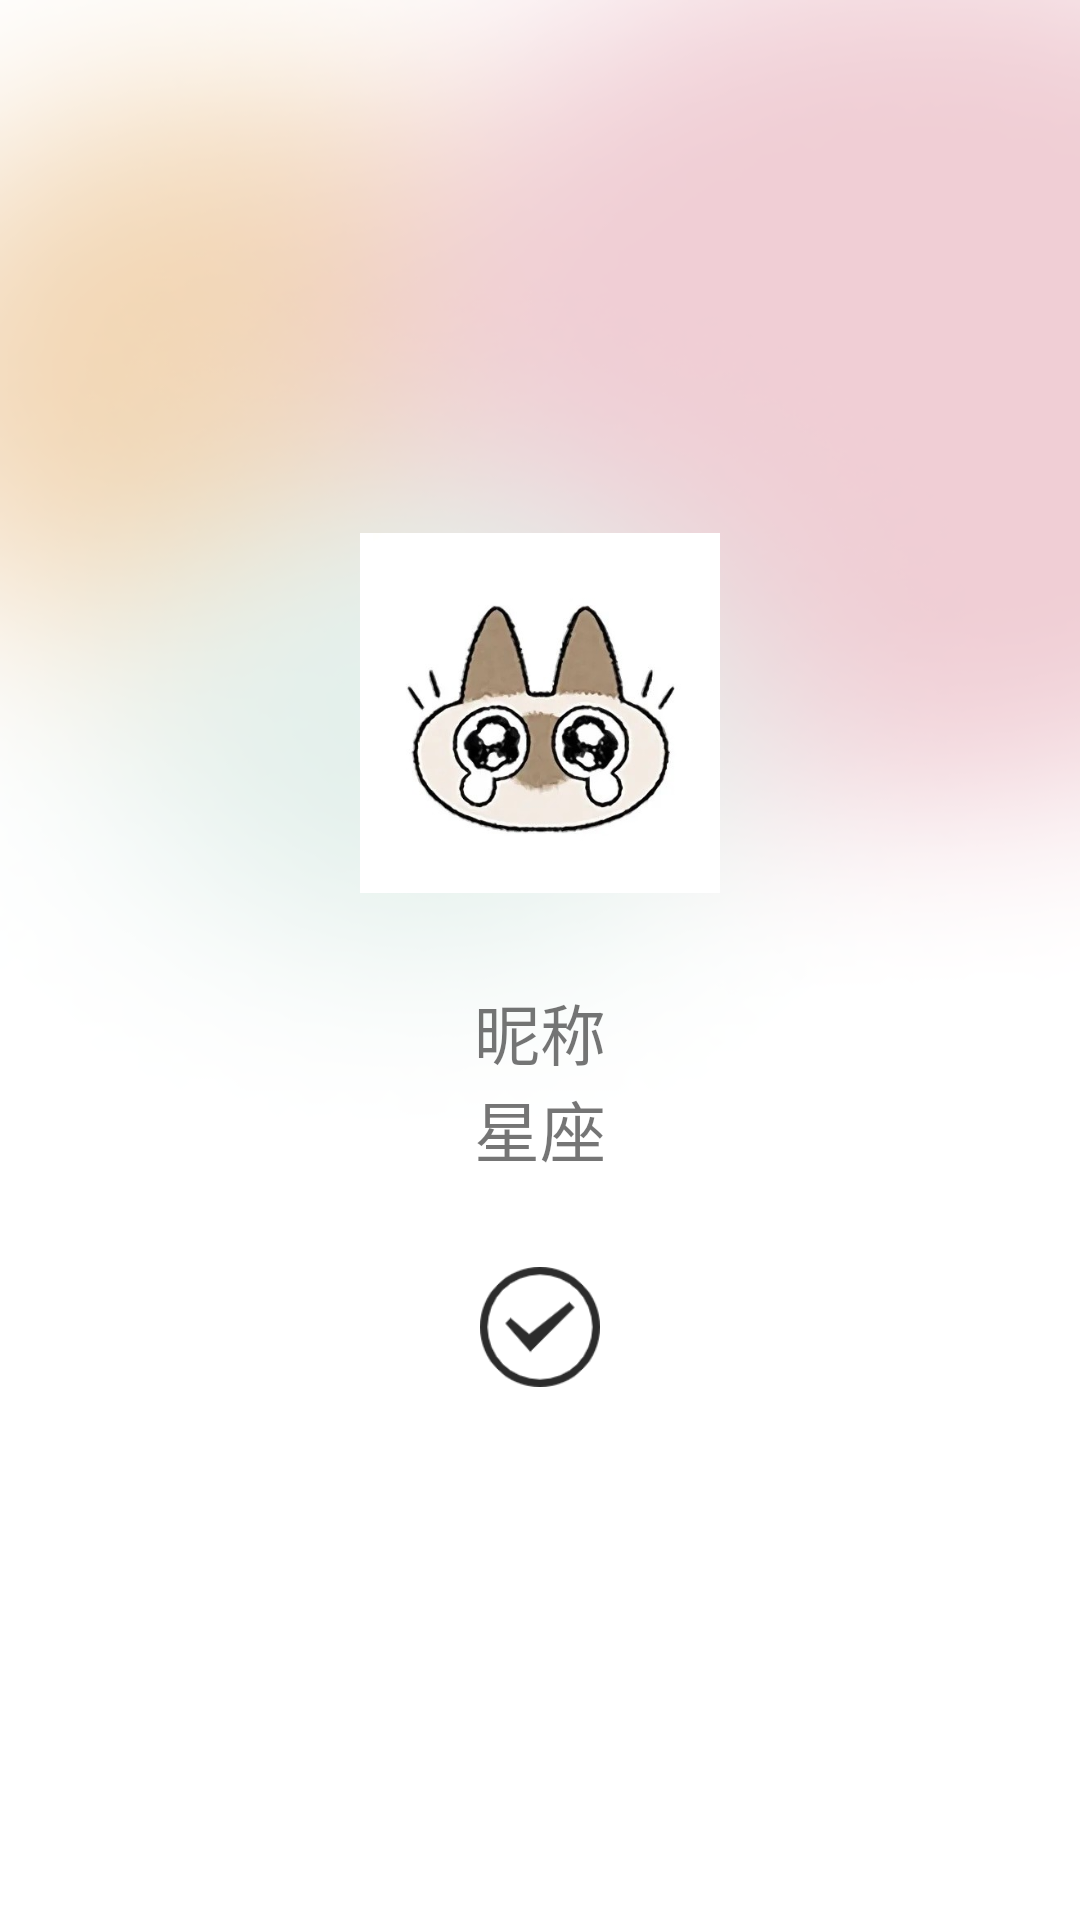

Icon click points for this 1080px x 1920px phone screenshot, format point (x, y):
select: point (540, 1327)
